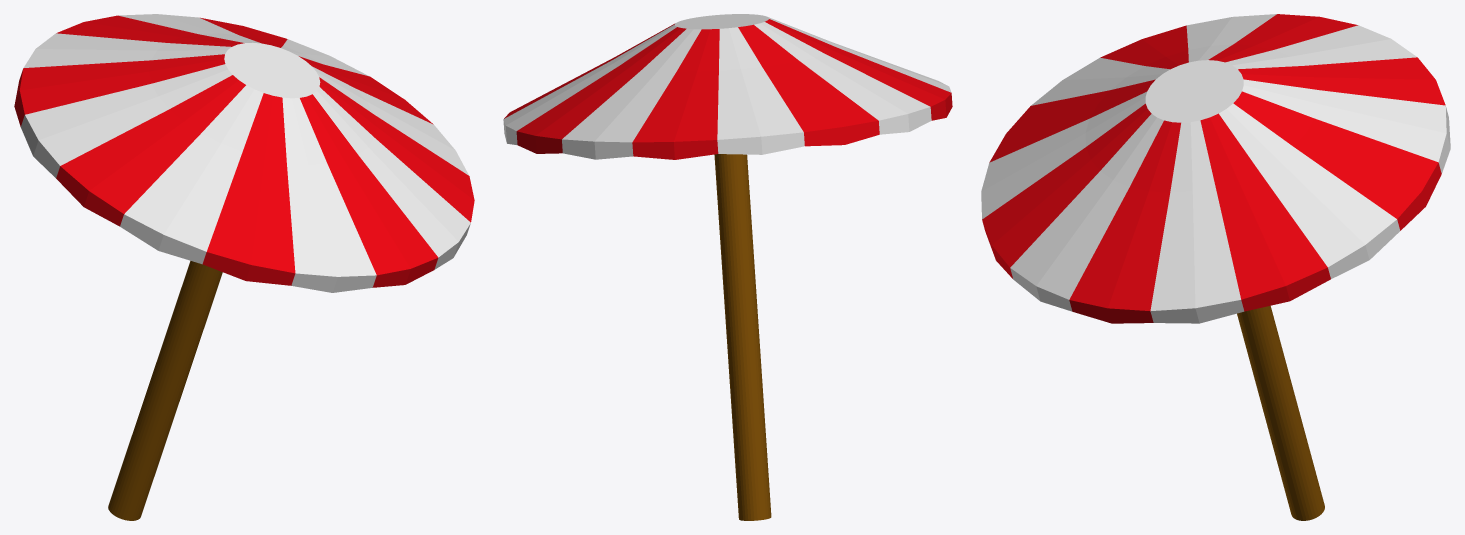
File: SUNBRELLA.fbx
3 renders of one model, left to right at view 1: azimuth 30°, elevation 25°; view 2: azimuth 150°, elevation 25°; view 3: azimuth 270°, elevation 25°, orthographic. The views are drawn at different scales.
Visible parts, largest first — view 1: Circle, Cylinder; view 2: Circle, Cylinder; view 3: Circle, Cylinder.
Part boxes in pixels (left/top/right/bottom): Circle: left=14, top=14, right=474, bottom=292; Cylinder: left=108, top=261, right=222, bottom=520; Circle: left=503, top=14, right=952, bottom=159; Cylinder: left=714, top=154, right=771, bottom=520; Circle: left=981, top=14, right=1450, bottom=323; Cylinder: left=1237, top=305, right=1324, bottom=520.
Size of the model in its own units: 135 by 153 by 135.
